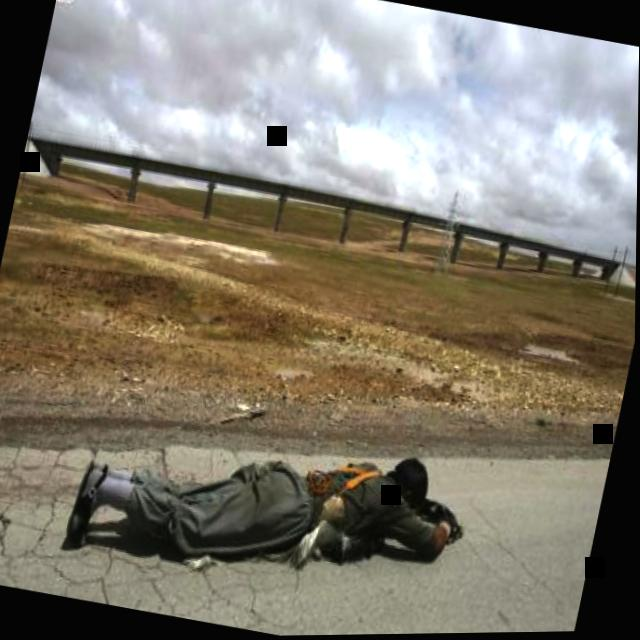Fall-Detected: (65, 390, 485, 622)
